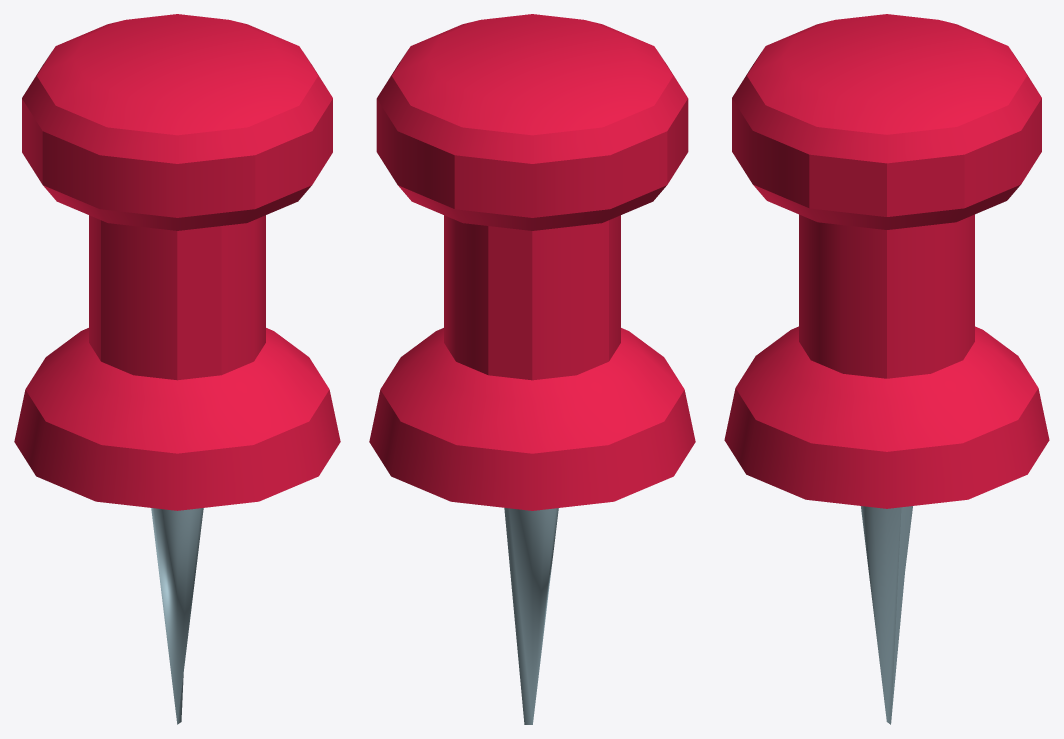
File: Pin.glb
The picture shows the model from 3 angles, left to right: view 1: azimuth 30°, elevation 25°; view 2: azimuth 150°, elevation 25°; view 3: azimuth 270°, elevation 25°; orthographic projection.
Parts seen in each view (by area): view 1: Cylinder; view 2: Cylinder; view 3: Cylinder.
Boxes of the visible parts, <box> form: Cylinder: <box>14,14,340,724</box>; Cylinder: <box>369,14,695,724</box>; Cylinder: <box>724,14,1049,724</box>.
Bounding box in the file's own units: 2 × 4.51 × 2.
